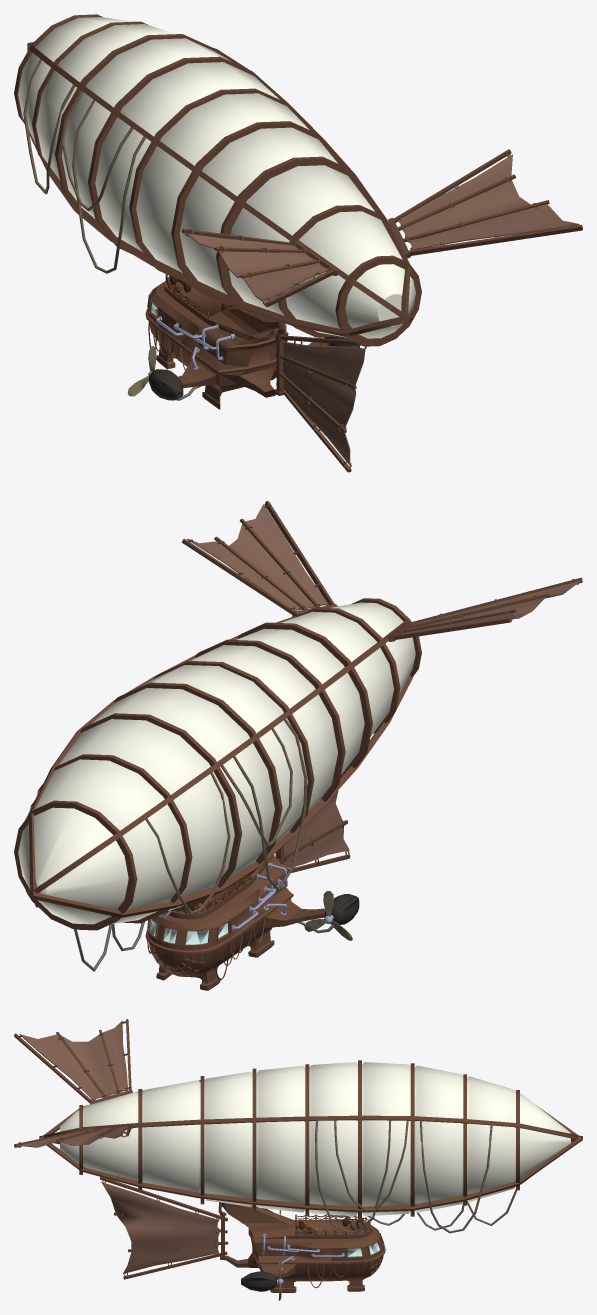
The picture shows the model from 3 angles, top to bottom: view 1: azimuth 30°, elevation 25°; view 2: azimuth 150°, elevation 25°; view 3: azimuth 270°, elevation 25°; orthographic projection. The views are drawn at different scales.
Visible parts, largest first — view 1: brown; view 2: brown; view 3: brown.
Boxes of the visible parts, x1=… form: brown: x1=14, y1=14, x2=582, y2=472; brown: x1=14, y1=501, x2=582, y2=990; brown: x1=14, y1=1019, x2=582, y2=1300.
Size of the model in its own units: 46.24 by 40.42 by 96.32.
